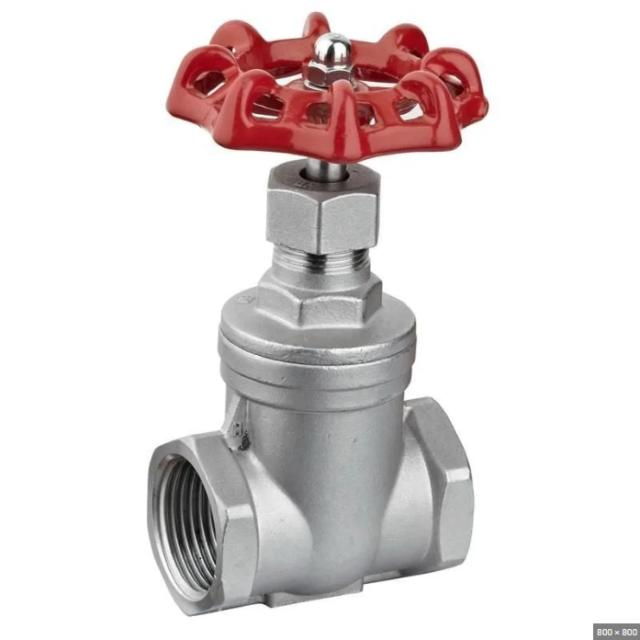Wheel Handle Valve Threaded: (135, 3, 493, 640)
